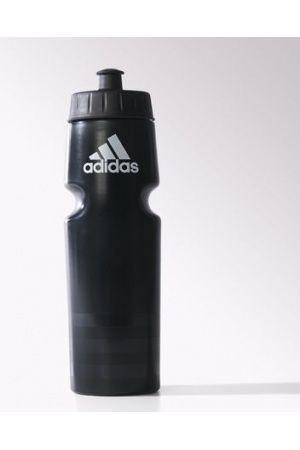gym bottle: (63, 64, 162, 396)
